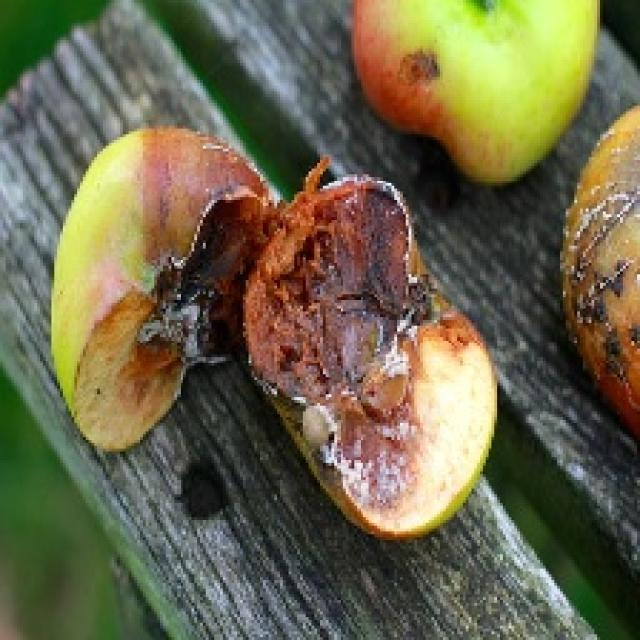rotten_apple: (248, 180, 497, 530), (54, 127, 247, 446)
